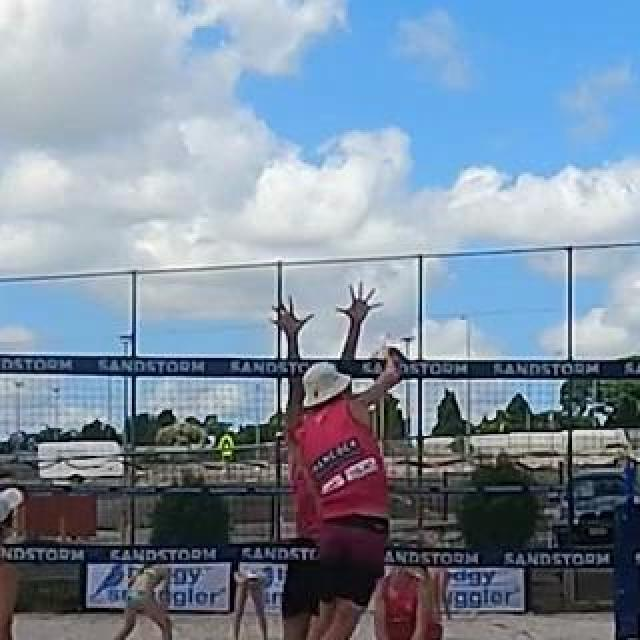volleyball: (369, 344, 407, 386)
